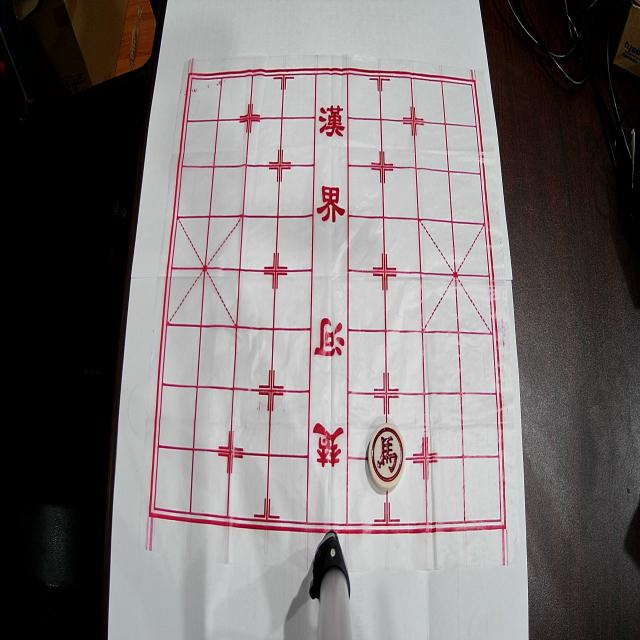red-horse: (368, 423, 406, 490)
